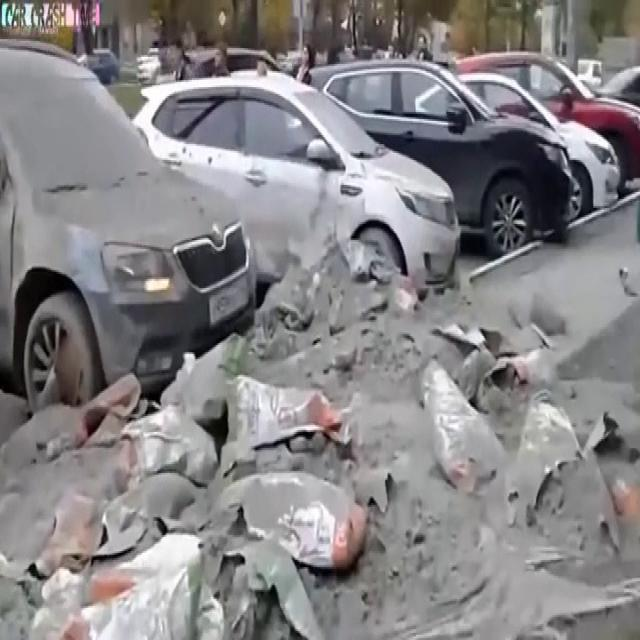accident: (11, 118, 246, 507)
